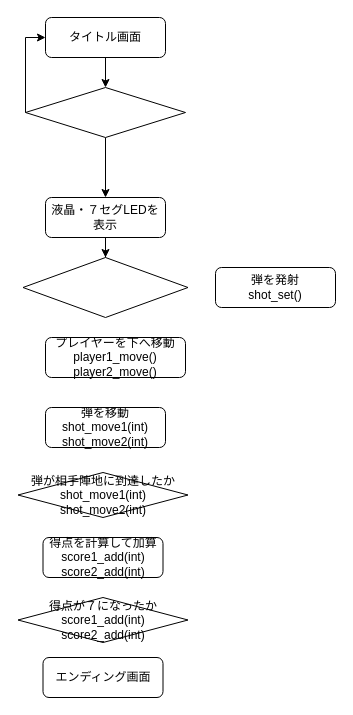
Some shapes in this 353 by 715 pixel diagram are drawn without their labels. The shapes that lost their labels are listed below. From the top down, each one's centre as x and y in pixels, then its label:
At (x=105, y=112): "３ボタンを押す".
At (x=105, y=287): "1６キーパッドの入力待ち".
